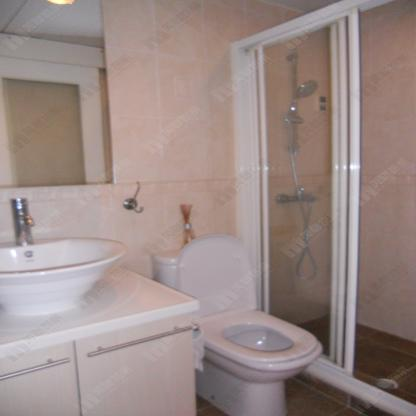Faucet: (7, 194, 41, 246)
Toilet: (152, 231, 320, 416)
Toilet Sink: (0, 237, 127, 315)
Water Cubicle: (231, 0, 416, 416)
